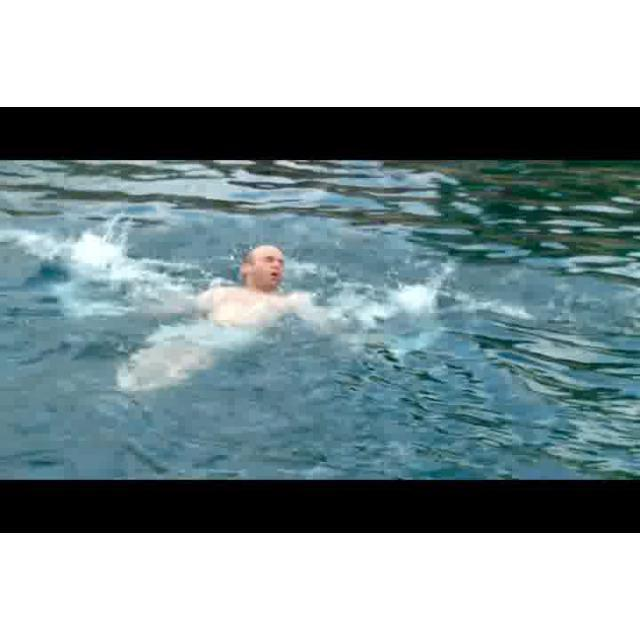human: (198, 246, 325, 332)
